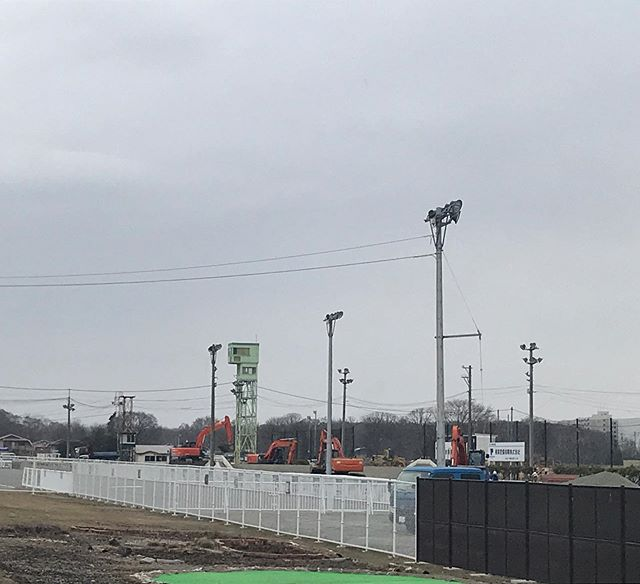excavator: (161, 411, 238, 469), (303, 424, 367, 483), (241, 431, 299, 468)
sky: (10, 1, 640, 394)
